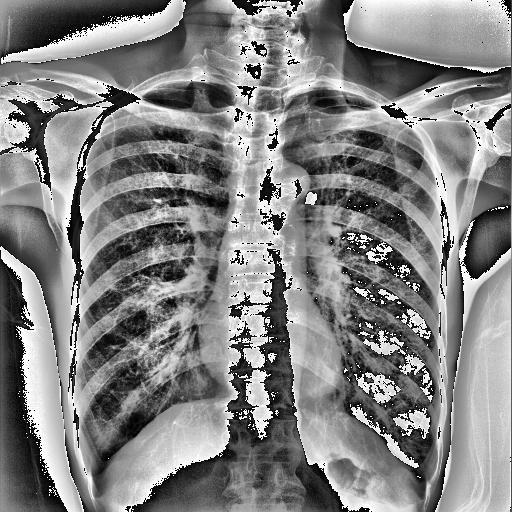11- Pleural thickening: (82, 459, 110, 504), (408, 458, 438, 498), (405, 464, 435, 500), (82, 462, 108, 501)
13- Pulmonary fibrosis: (330, 112, 360, 164)
